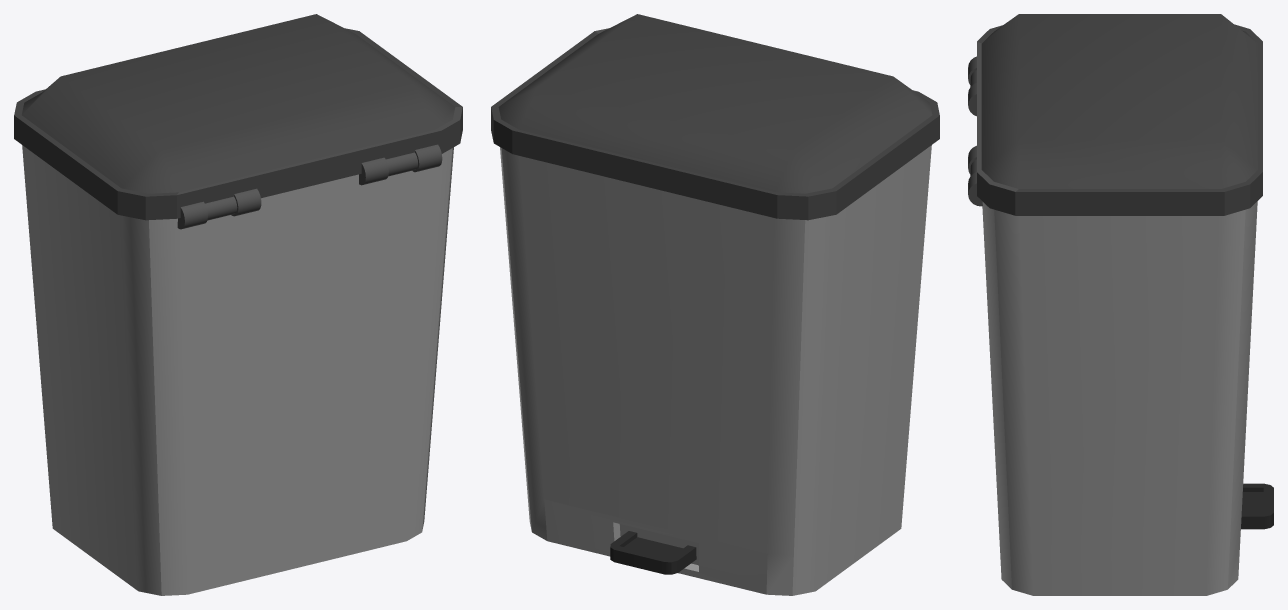
Rendered from TrashCanModel.fbx.
3 renders of one model, left to right at view 1: azimuth 30°, elevation 25°; view 2: azimuth 150°, elevation 25°; view 3: azimuth 270°, elevation 25°, orthographic.
Visible parts, largest first — view 1: TrashCanModel; view 2: TrashCanModel; view 3: TrashCanModel.
Boxes of the visible parts, bbox=[...] form: TrashCanModel: bbox=[14, 14, 462, 595]; TrashCanModel: bbox=[491, 14, 939, 595]; TrashCanModel: bbox=[968, 14, 1273, 595].
Bounding box in the file's own units: 68.32 × 83.8 × 51.8.
